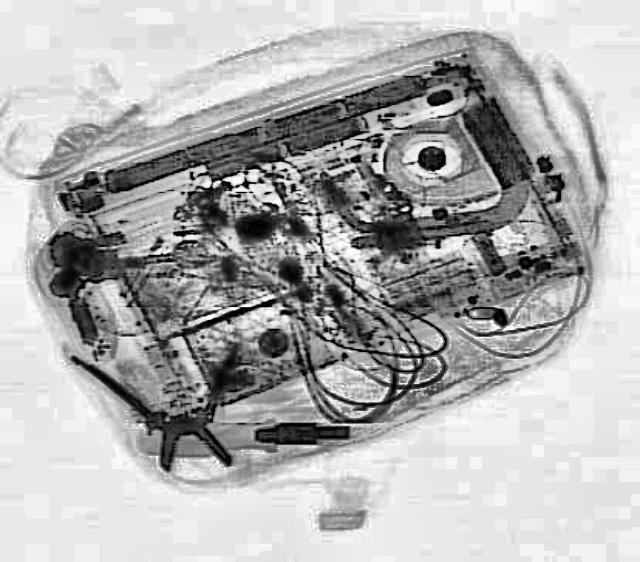Pliers: (68, 326, 266, 486)
